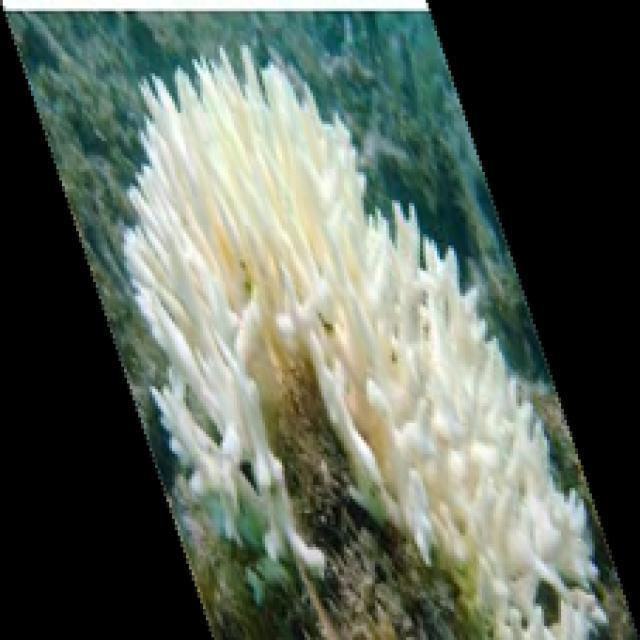Bleached: (123, 45, 611, 640)
